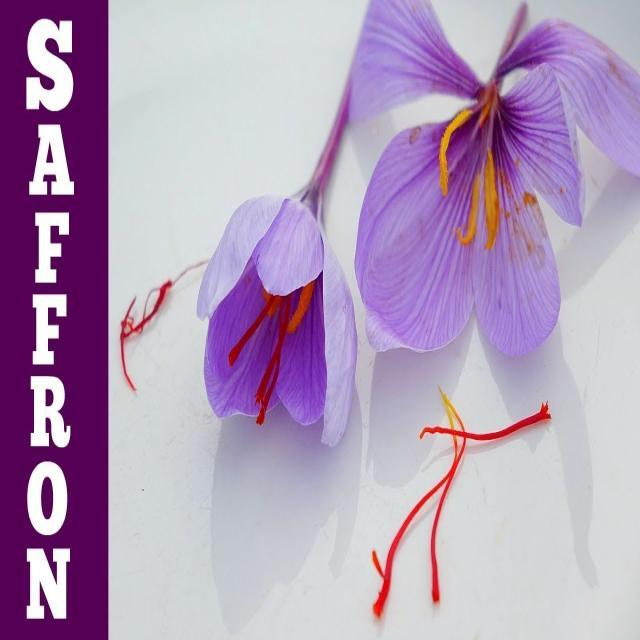Flower: (350, 0, 640, 368), (201, 190, 358, 448)
stigma: (252, 304, 292, 428), (223, 298, 272, 364)
